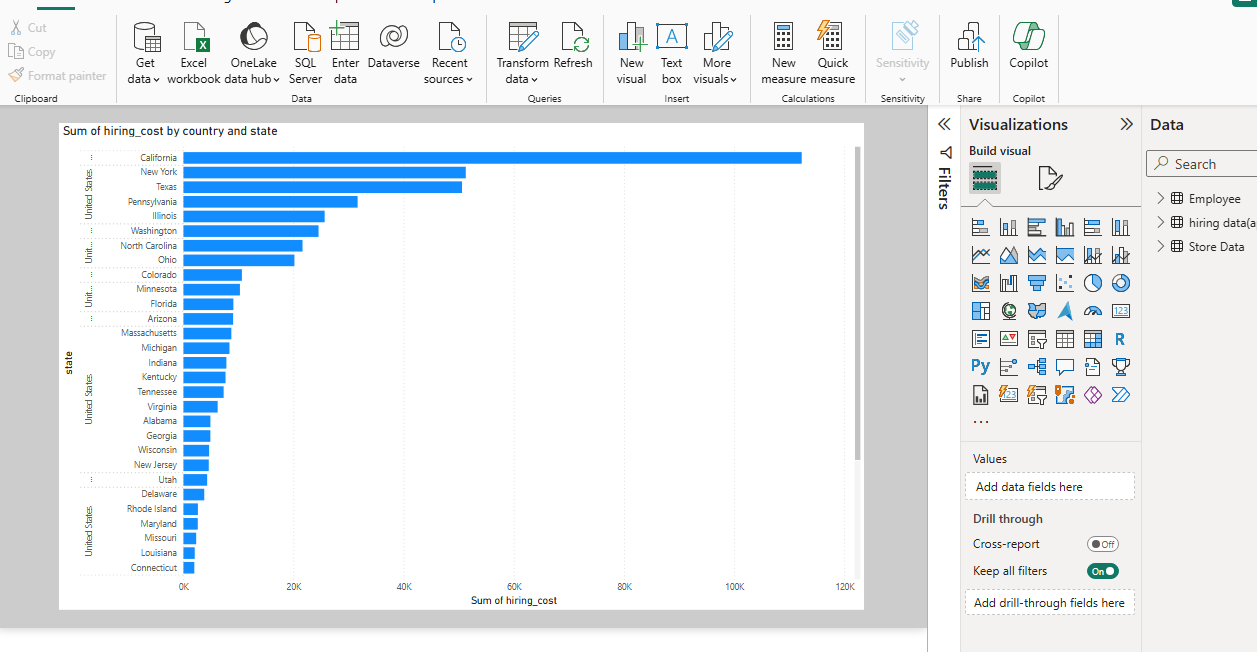

The dashboard page shown, as its layout file describes it:
{"tool":"powerbi","page":{"name":"page 6","canvas":[1280,720],"ordinal":5},"visuals":[{"type":"clusteredBarChart","fields":{"Category":["Store Data.country Hierarchy.country","Store Data.country Hierarchy.state"],"Y":["Sum(hiring data(append).hiring_cost)"]},"box":[85.3,24.8,1108,670.3],"z":0}]}

Visuals, with their boxes on the page's 1280x720 design canvas (x1, y1, x2, y2). These are canvas units, not pixel positions in the 1257x652 screenshot, which may show the page scaled, cropped or inside an application window:
clusteredBarChart - Store Data.country Hierarchy.country x Store Data.country Hierarchy.state: l=85, t=25, r=1193, b=695
